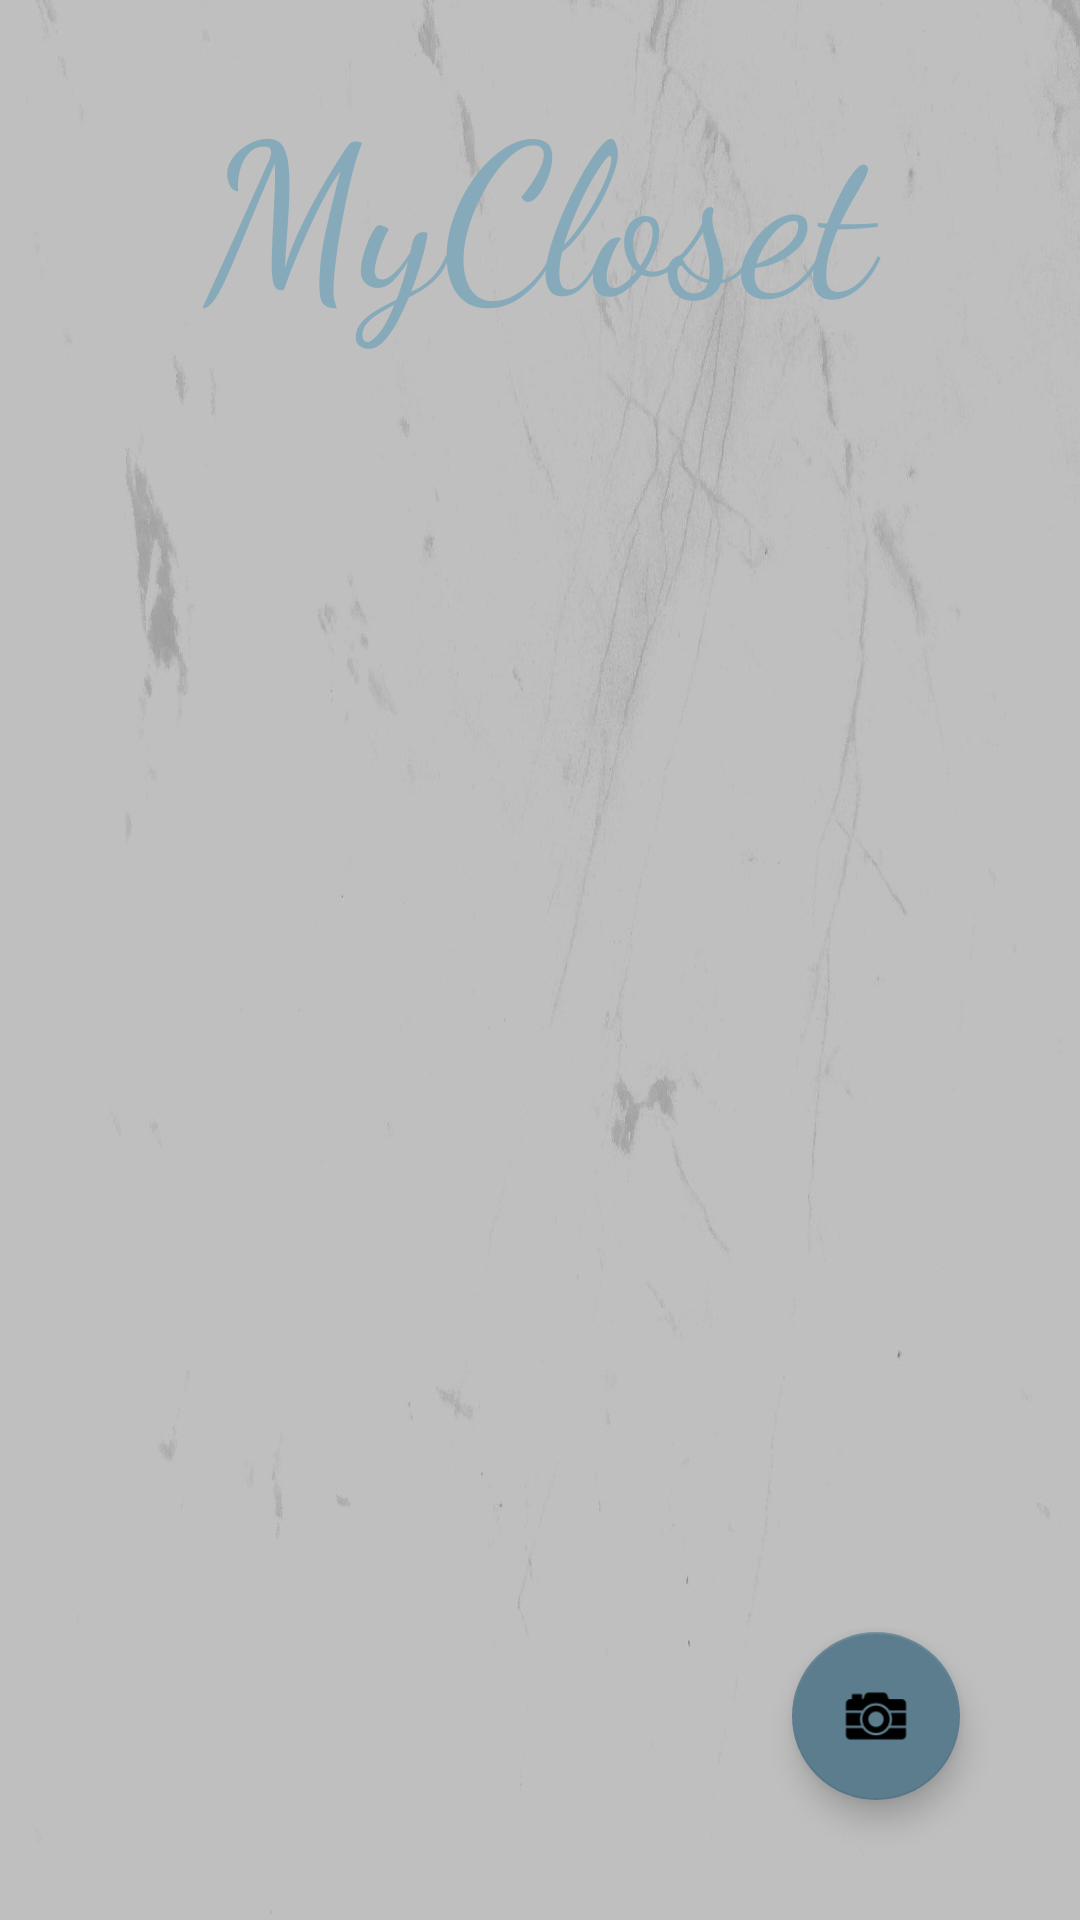

Where icons sit on this 1080×1920 app screen, as (x1, y1, x2, y2):
camera: (792, 1632, 960, 1800)
